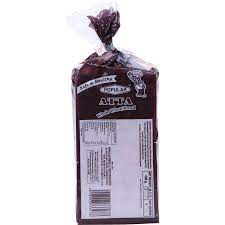bread: (54, 9, 161, 225)
